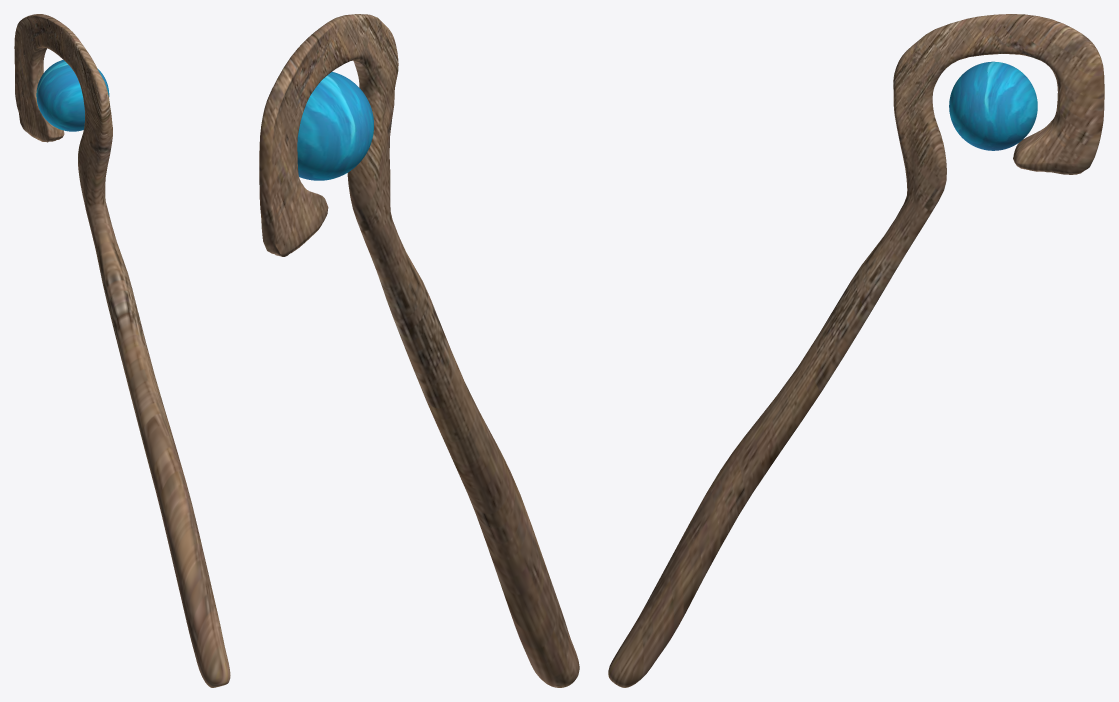
The model's file is Baton de mage.fbx.
3 renders of one model, left to right at view 1: azimuth 30°, elevation 25°; view 2: azimuth 150°, elevation 25°; view 3: azimuth 270°, elevation 25°, orthographic. The views are drawn at different scales.
Visible parts, largest first — view 1: Sphere; view 2: Sphere; view 3: Sphere.
Part boxes in pixels (left/top/right/bottom): Sphere: left=14, top=14, right=230, bottom=687; Sphere: left=259, top=14, right=579, bottom=687; Sphere: left=608, top=14, right=1104, bottom=687.
Bounding box in the file's own units: 78.82 × 658 × 441.
